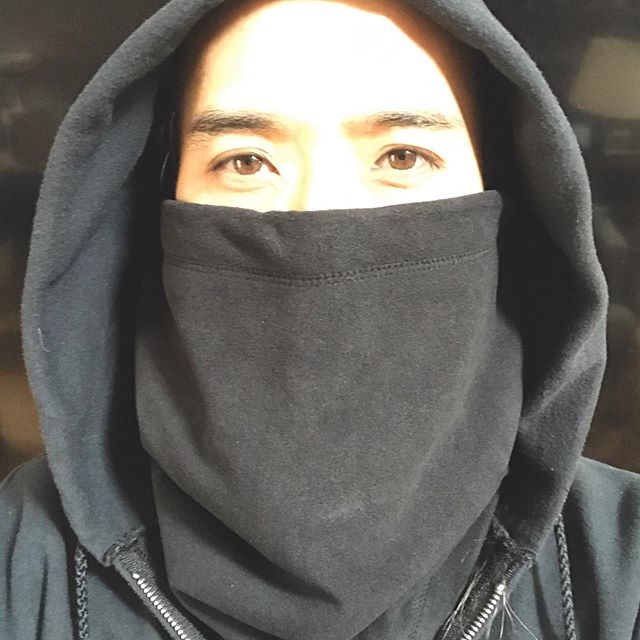homemade: (117, 186, 604, 631)
